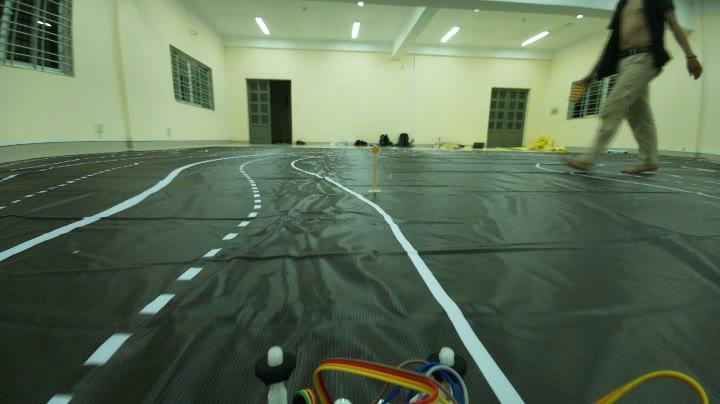priority: (366, 142, 382, 158)
